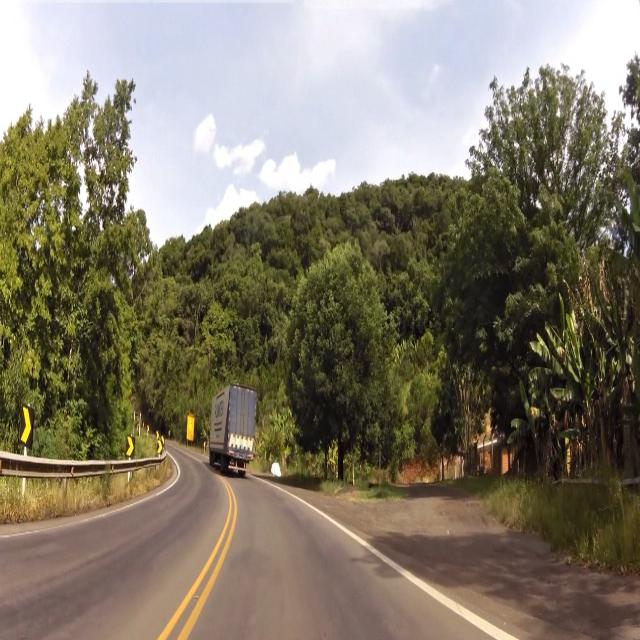Del: (22, 405, 33, 444), (124, 436, 134, 458), (157, 442, 165, 455)
